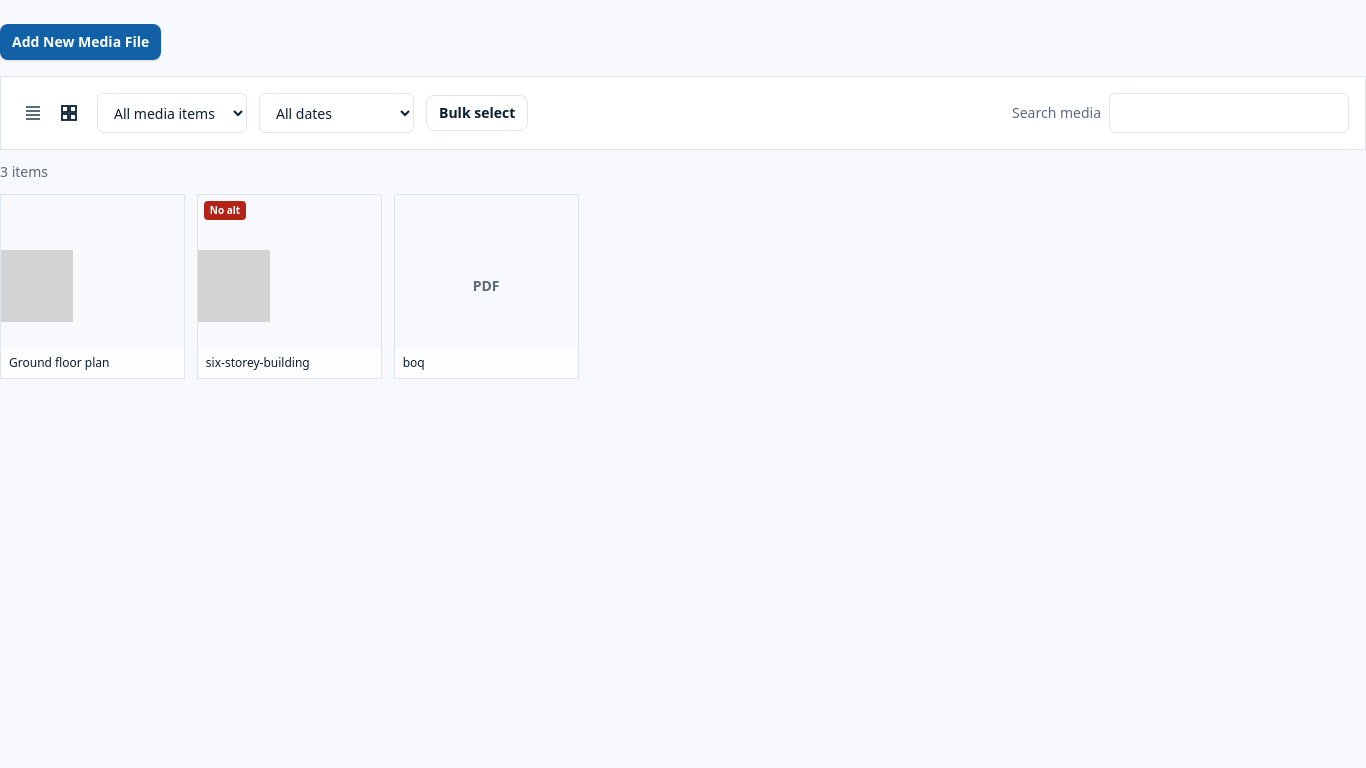
Test: MediaLibrary › opens a file in attachment details, moves to the next one and saves a title on leaving the field
Click the button with aria-label "Details: six-storey-building" at (289, 286), box [197,194,382,379]
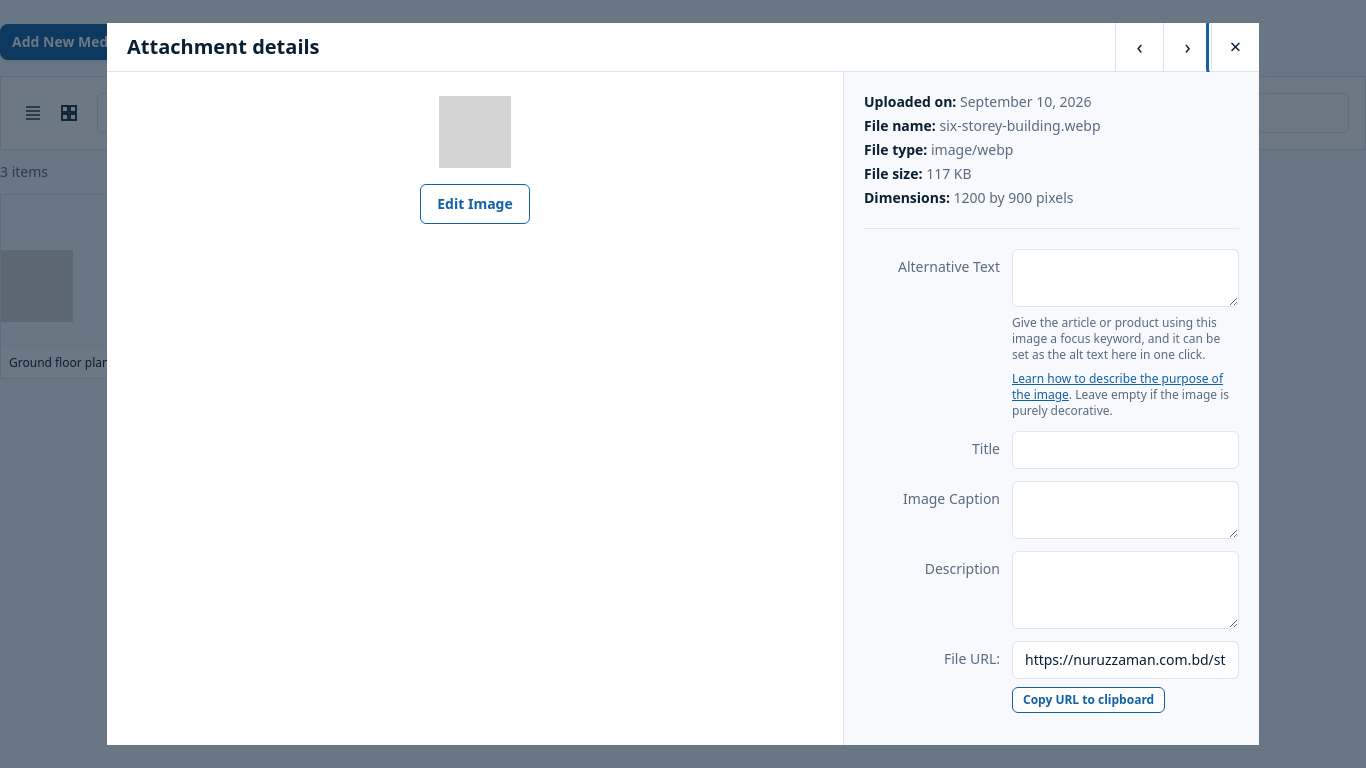
Now the text "six-storey-building.webp" is shown, box [940,116,1101,135]
Type "Six storey building" into the field labelled "Title" at (1126, 450), box [1012,431,1239,469]
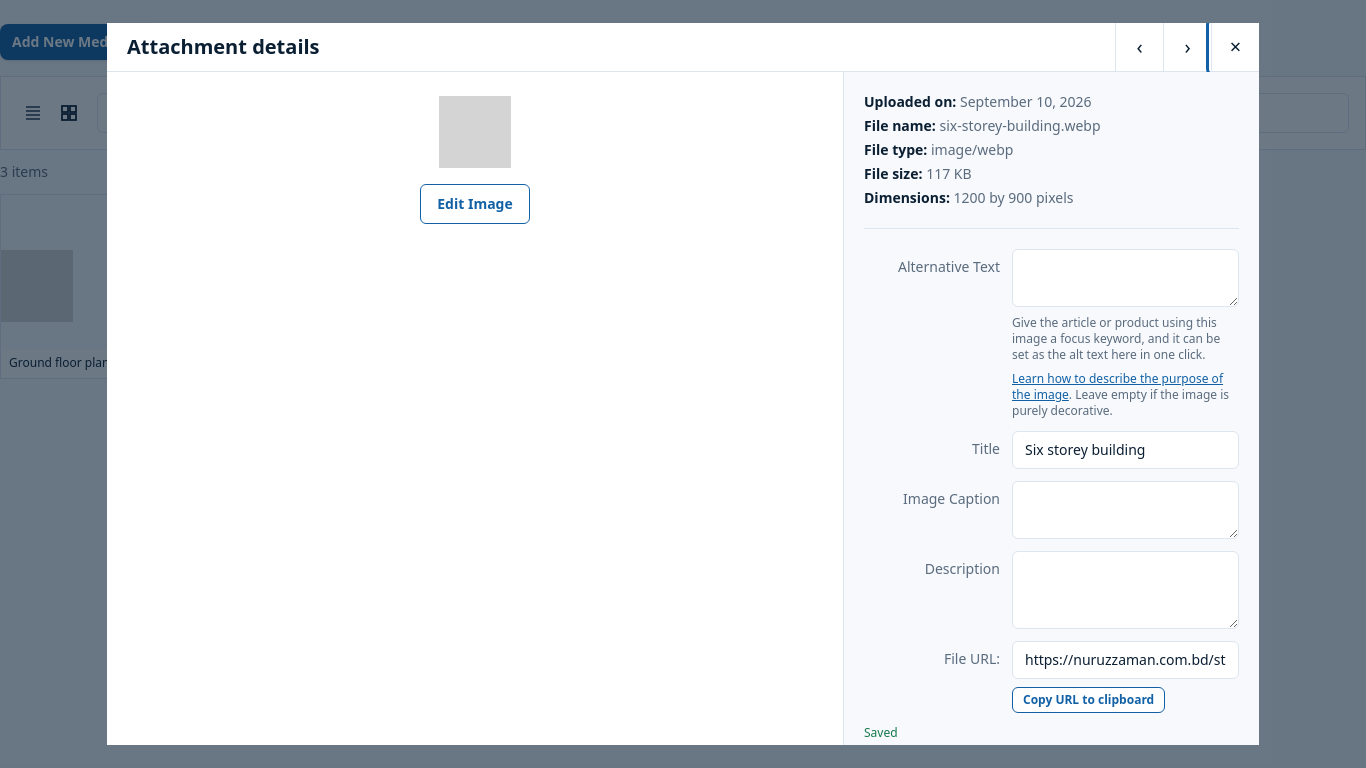
Click the button named "Next media item" at (1187, 47), box [1163,23,1211,71]
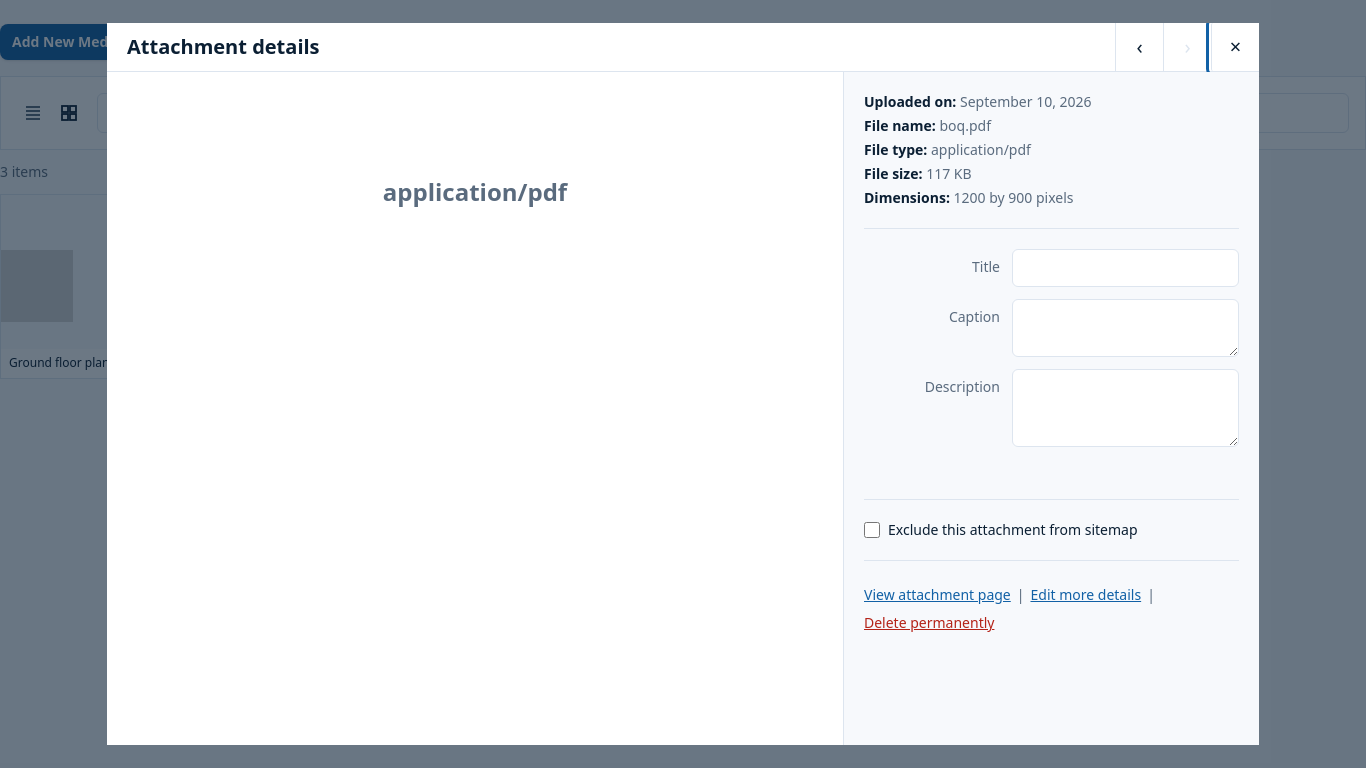
Now the dialog "Attachment details" shows "boq.pdf", box [940,116,991,135]
